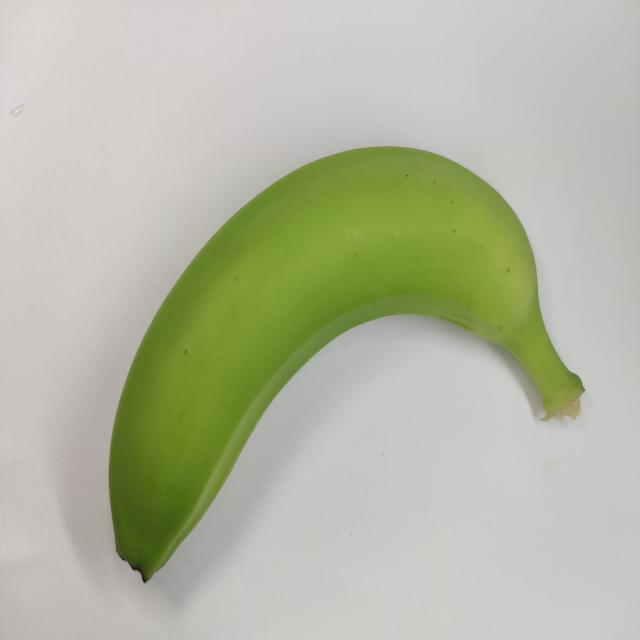raw: (86, 125, 590, 592)
